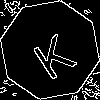K: (25, 25, 78, 82)
